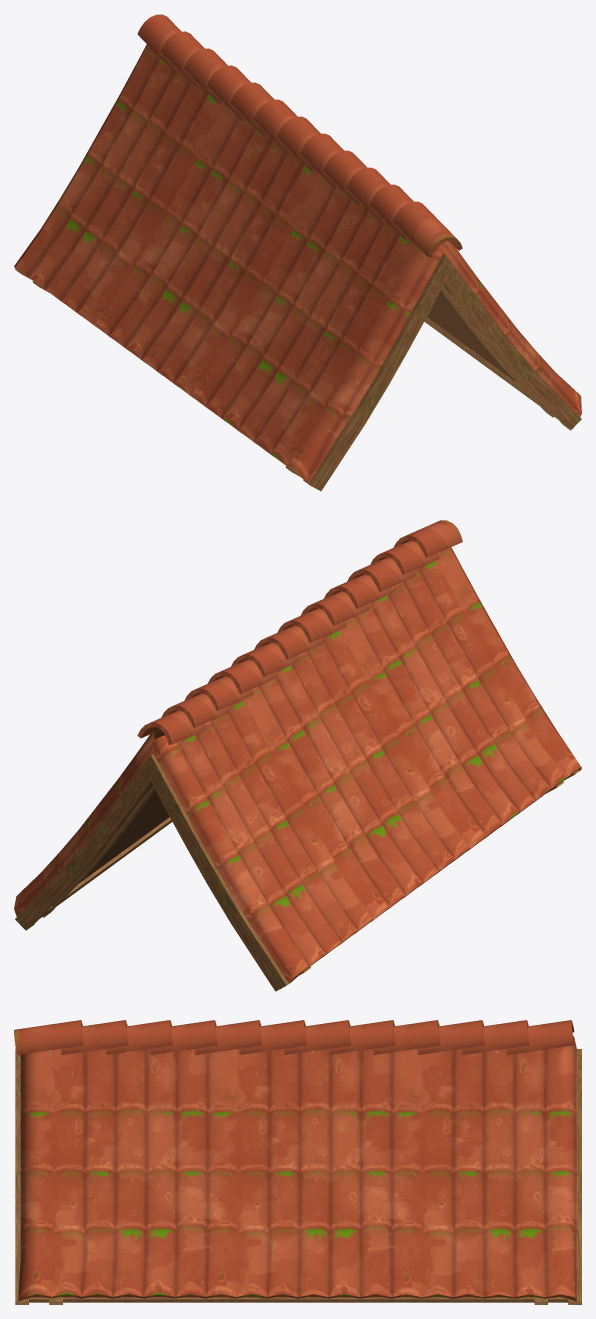
File: Roof_RoundTiles_4x8.gltf
3 views of the same model, one above another, from view 1: azimuth 30°, elevation 25°; view 2: azimuth 150°, elevation 25°; view 3: azimuth 270°, elevation 25° (orthographic). The views are drawn at different scales.
Visible parts, largest first — view 1: Roof_RoundTiles_4x8; view 2: Roof_RoundTiles_4x8; view 3: Roof_RoundTiles_4x8.
Part boxes in pixels (box(x1,y1,x2,y2)): Roof_RoundTiles_4x8: box(14, 14, 581, 491); Roof_RoundTiles_4x8: box(14, 520, 581, 991); Roof_RoundTiles_4x8: box(14, 1020, 581, 1304).
Bounding box in the file's own units: 5.51 × 4.23 × 9.68.
Materials: 2 (2 with a texture image).
